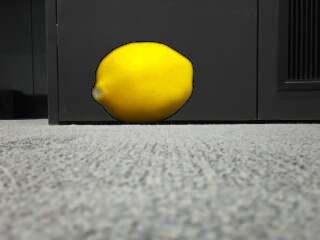lemon: (92, 41, 192, 123)
